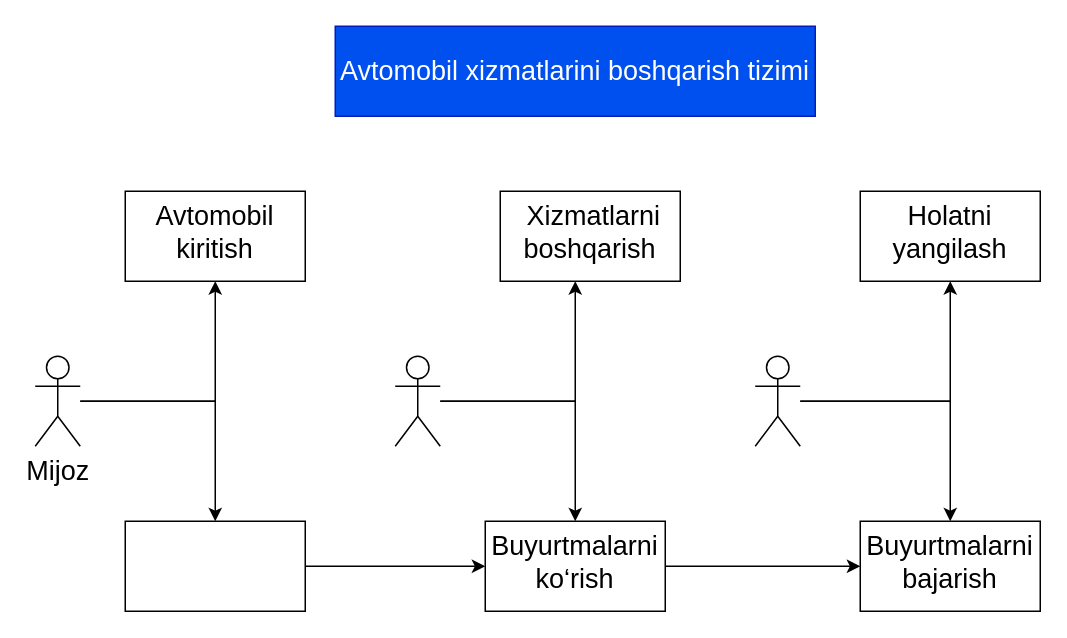
Image size: 1067x638. Some labels were removed from this diagram. The centre of each missing label's shape, as x and y in pixels:
"Admin" goes at pixel 417 400.
"Buyurtma berish" goes at pixel 214 565.
"Xodimlar" goes at pixel 777 400.
